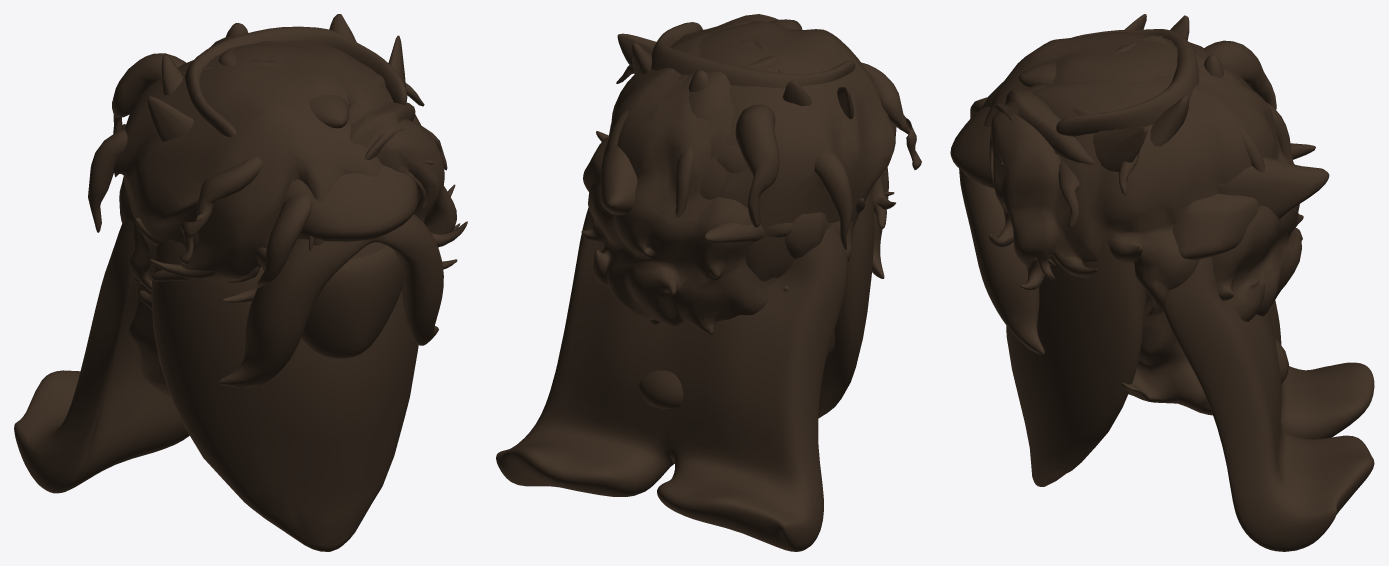
File: hair_low.glb
3 views of the same model, side by side, from view 1: azimuth 30°, elevation 25°; view 2: azimuth 150°, elevation 25°; view 3: azimuth 270°, elevation 25° (orthographic). The views are drawn at different scales.
Visible parts, largest first — view 1: Man_Hair_130, Man_Hair_050, Man_Hair_110, Man_Hair_070, Man_Hair_001, Man_Hair_030; view 2: Man_Hair_050, Man_Hair_070, Man_Hair_110, Man_Hair_130, Man_Hair_010, Man_Hair_030, Man_Hair_090, Man_Hair_001; view 3: Man_Hair_050, Man_Hair_070, Man_Hair_130, Man_Hair_110, Man_Hair_030, Man_Hair_090, Man_Hair_010, Man_Hair_001.
Part boxes in pixels (bbox=[...]): Man_Hair_130: bbox=[147, 14, 418, 551]; Man_Hair_050: bbox=[14, 26, 443, 493]; Man_Hair_110: bbox=[88, 43, 447, 287]; Man_Hair_070: bbox=[119, 40, 467, 309]; Man_Hair_001: bbox=[226, 23, 418, 241]; Man_Hair_030: bbox=[129, 36, 415, 397]; Man_Hair_050: bbox=[496, 22, 888, 551]; Man_Hair_070: bbox=[581, 20, 895, 334]; Man_Hair_110: bbox=[607, 21, 921, 281]; Man_Hair_130: bbox=[617, 33, 874, 418]; Man_Hair_010: bbox=[599, 38, 782, 243]; Man_Hair_030: bbox=[639, 14, 834, 408]; Man_Hair_090: bbox=[583, 42, 793, 237]; Man_Hair_001: bbox=[688, 19, 802, 91]; Man_Hair_050: bbox=[959, 29, 1374, 551]; Man_Hair_070: bbox=[989, 52, 1303, 321]; Man_Hair_130: bbox=[1006, 14, 1189, 486]; Man_Hair_110: bbox=[970, 32, 1293, 278]; Man_Hair_030: bbox=[994, 35, 1288, 415]; Man_Hair_090: bbox=[1129, 51, 1259, 259]; Man_Hair_010: bbox=[1113, 35, 1329, 234]; Man_Hair_001: bbox=[950, 54, 1223, 188].
Size of the model in its own units: 0.255 by 0.3441 by 0.3083.
